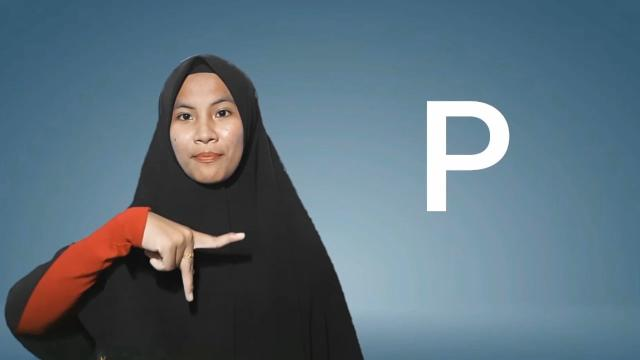P: (134, 206, 248, 305)
